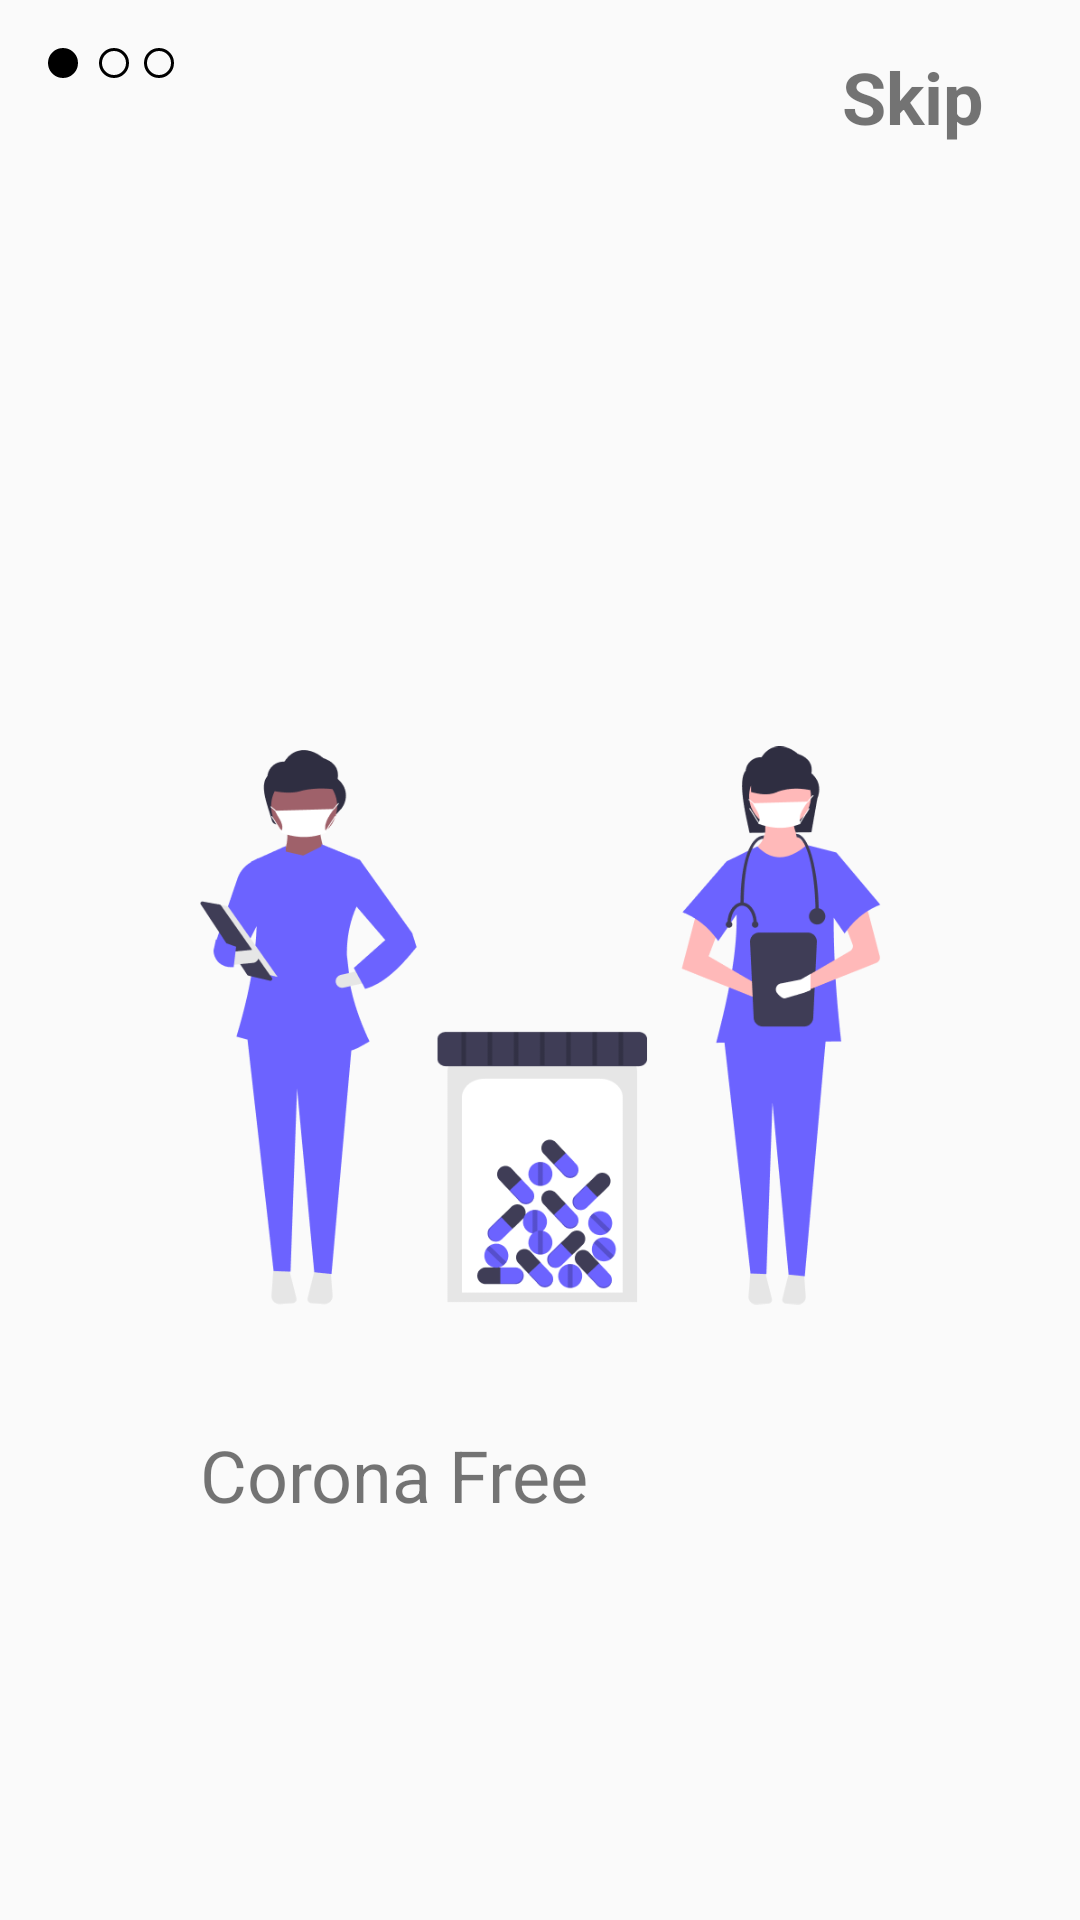

Locate icon controls on the screen. Image size 1080*1920, boxes as (x1, y1, x2, y2).
circle: (48, 48, 78, 78)
circle blank: (99, 48, 129, 78), (144, 48, 174, 78)
